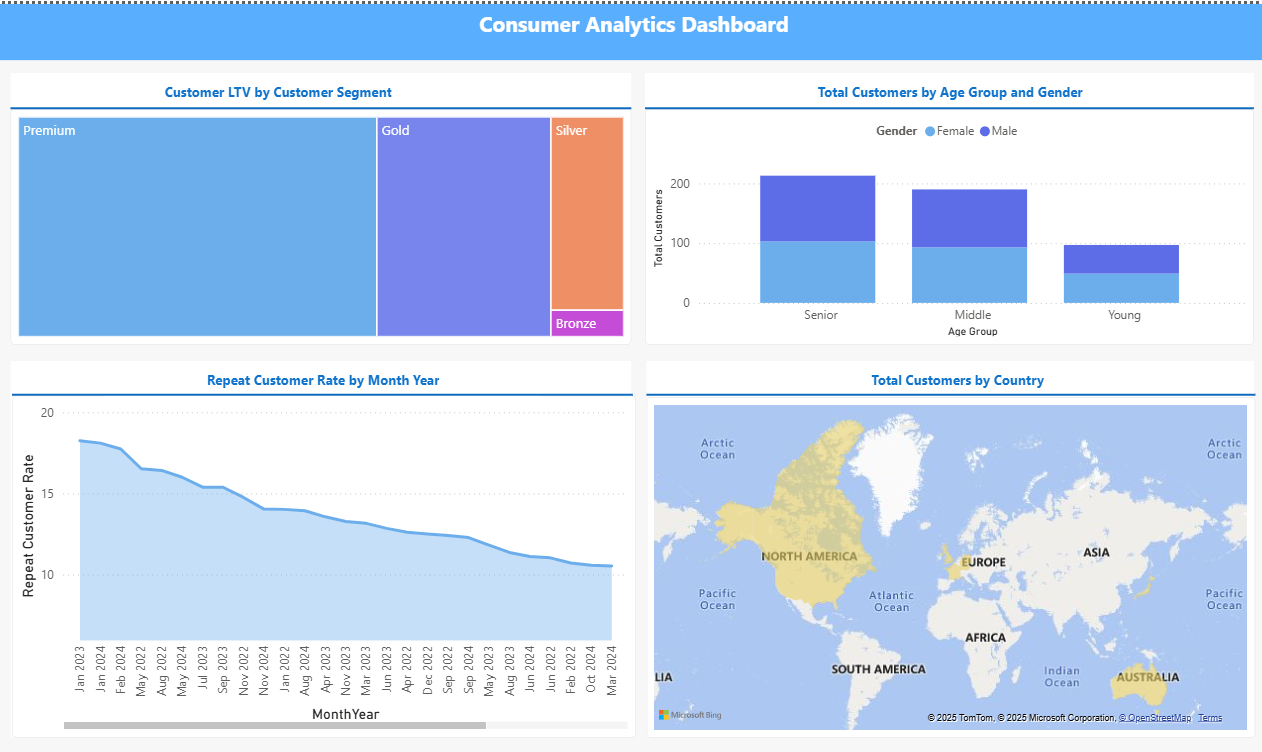

This screenshot's page, from the dashboard's own definition file:
{"tool":"powerbi","page":{"name":"Customer Analytics","canvas":[1280,760],"ordinal":2},"visuals":[{"type":"shape","box":[652.6,360.4,613.3,380.1],"z":0},{"type":"shape","box":[10.6,360.4,626.9,380.1],"z":1000},{"type":"shape","box":[651.1,69.7,614.8,274.1],"z":2000},{"type":"shape","box":[10.6,69.7,626.9,274.1],"z":3000},{"type":"treemap","fields":{"Group":["Customers.Customer Segment"],"Values":["Sales.Customer LTV"]},"box":[10.6,106,626.9,237.7],"z":4000},{"type":"stackedAreaChart","fields":{"Category":["Date.MonthYear"],"Y":["Sales.Repeat Customer Rate"]},"box":[11.6,395.7,629.9,345.2],"z":5000},{"type":"columnChart","fields":{"Category":["Customers.Age Group"],"Y":["Sales.Total Customers"],"Series":["Customers.Gender"]},"box":[651.1,106,614.8,237.7],"z":6000},{"type":"filledMap","fields":{"Category":["Customers.Country"]},"box":[652.1,397.2,614.8,343.7],"z":7000},{"type":"textbox","box":[0,0,1280,56.7],"z":8000},{"type":"shape","box":[60.6,69.7,440.6,36.3],"z":9000},{"type":"shape","box":[10.6,89.3,626.9,31.8],"z":10000},{"type":"shape","box":[738.9,69.7,440.6,36.3],"z":11000},{"type":"shape","box":[651.1,89.3,614.8,31.8],"z":12000},{"type":"shape","box":[105.5,360.9,440.6,36.3],"z":13000},{"type":"shape","box":[12.5,379,626.9,31.8],"z":14000},{"type":"shape","box":[746.5,359.8,440.6,36.3],"z":15000},{"type":"shape","box":[652.1,379.1,614.8,31.8],"z":16000}]}

Visuals, with their boxes in screenshot pixels (x1, y1, x2, y2), scaled from the page's 1280x760 canvas onto the 1262x752 screenshot:
shape: 643 357 1248 733
shape: 10 357 629 733
shape: 642 69 1248 340
shape: 10 69 629 340
treemap - Customers.Customer Segment x Sales.Customer LTV: 10 105 629 340
stackedAreaChart - Date.MonthYear x Sales.Repeat Customer Rate: 11 392 632 733
columnChart - Customers.Age Group x Sales.Total Customers: 642 105 1248 340
filledMap - Customers.Country: 643 393 1249 733
textbox: 0 0 1261 56
shape: 60 69 494 105
shape: 10 88 629 120
shape: 729 69 1163 105
shape: 642 88 1248 120
shape: 104 357 538 393
shape: 12 375 630 406
shape: 736 356 1170 392
shape: 643 375 1249 407
